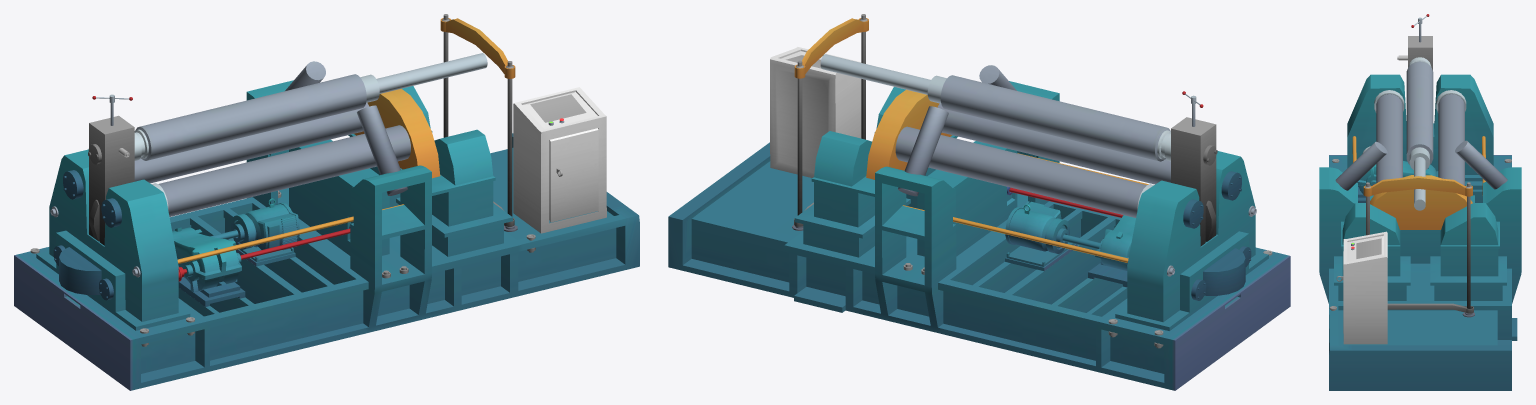
File: Panjuanji.glb
The picture shows the model from 3 angles, left to right: view 1: azimuth 30°, elevation 25°; view 2: azimuth 150°, elevation 25°; view 3: azimuth 270°, elevation 25°; orthographic projection. The views are drawn at different scales.
Parts seen in each view (by area): view 1: Panjuanji; view 2: Panjuanji; view 3: Panjuanji.
Part boxes in pixels (box(x1,y1,x2,y2)): Panjuanji: box(14, 14, 639, 390); Panjuanji: box(668, 14, 1290, 390); Panjuanji: box(1319, 14, 1521, 390).
Bounding box in the file's own units: 23.28 × 10.45 × 10.
2 materials, 2 textured.
